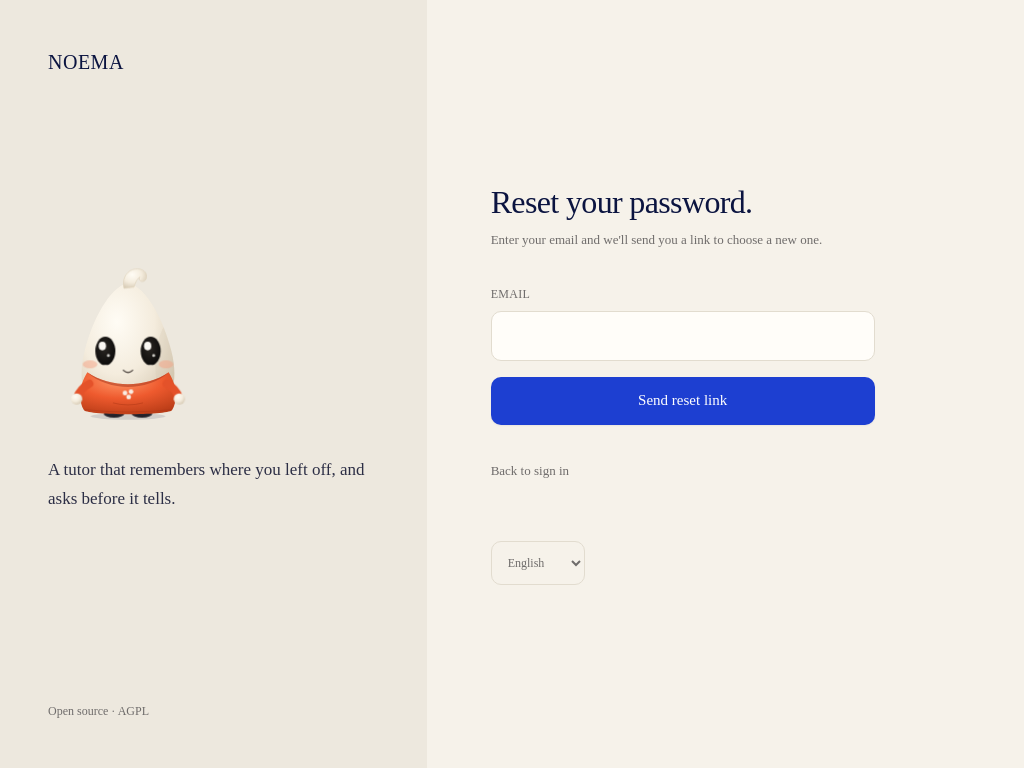
Test case: ForgotPasswordPage › surfaces an error and leaves the form usable when the request fails
Type "learner@example.com" into the field labelled "Email" at [683, 336], box [491,311,875,361]
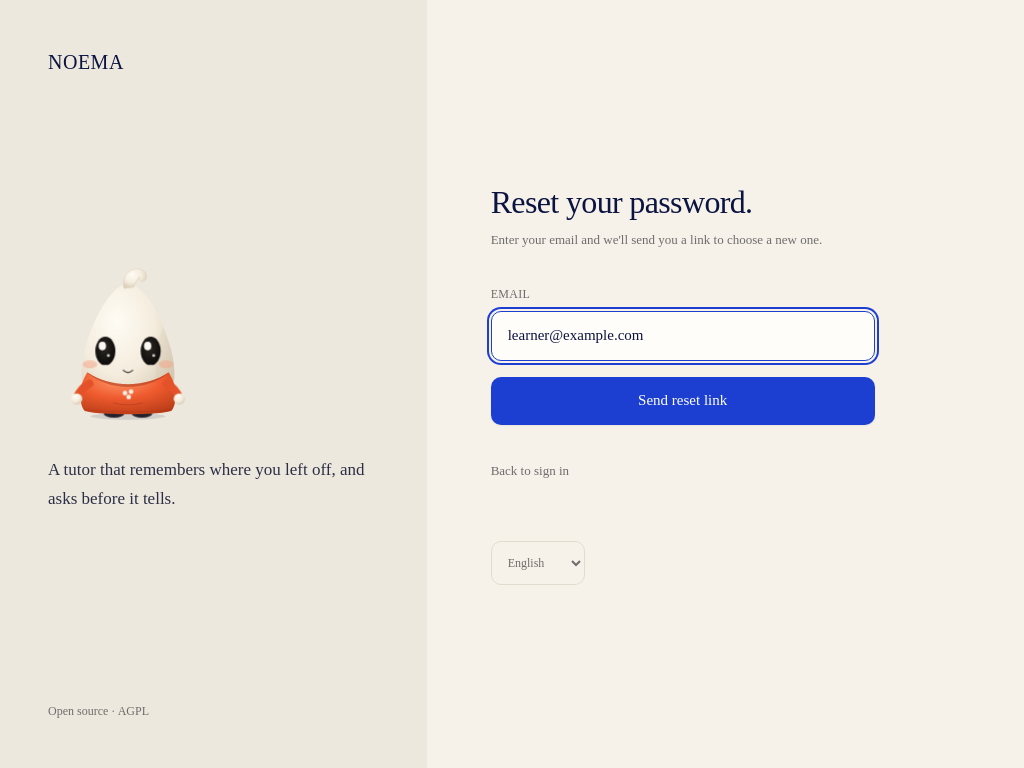
Click the button "Send reset link" at [683, 401], box [491,377,875,425]
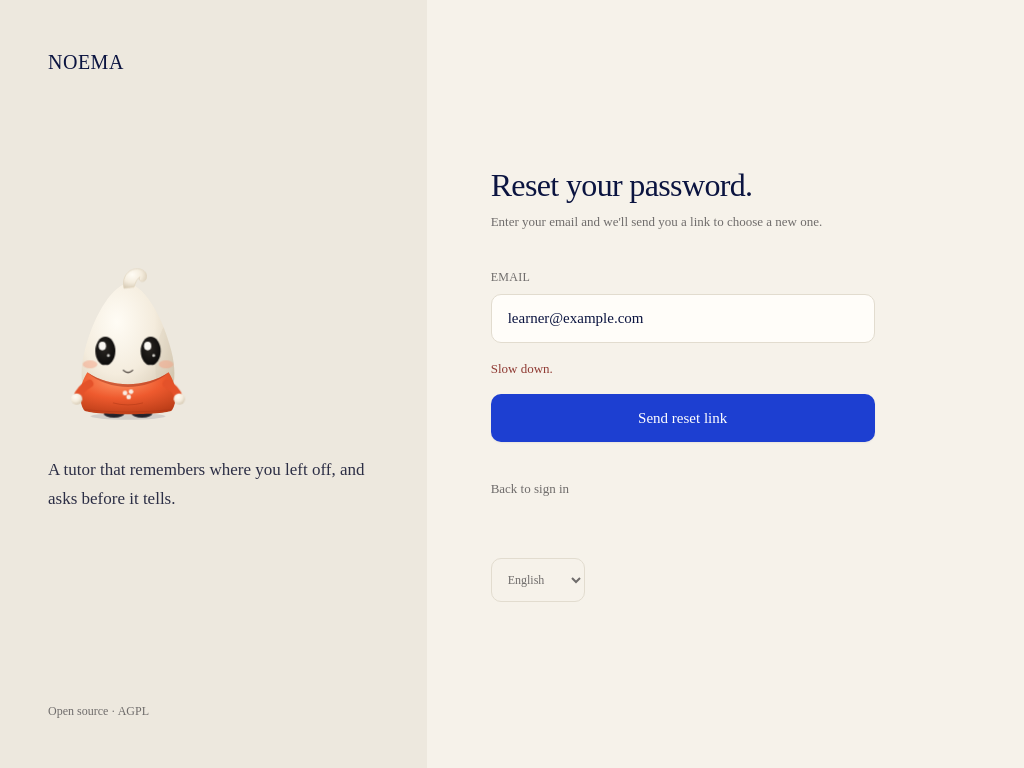
Expected: the button "Send reset link" is enabled, [491,394,875,442]
Expected: the text "Slow down." is shown, [491,361,553,376]
